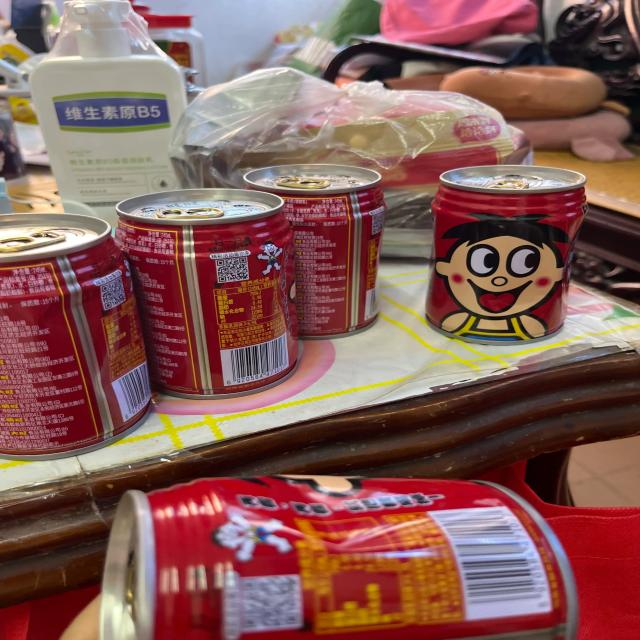can: (97, 469, 579, 640), (116, 186, 305, 402), (0, 211, 156, 464), (422, 162, 591, 347), (242, 159, 390, 342)
